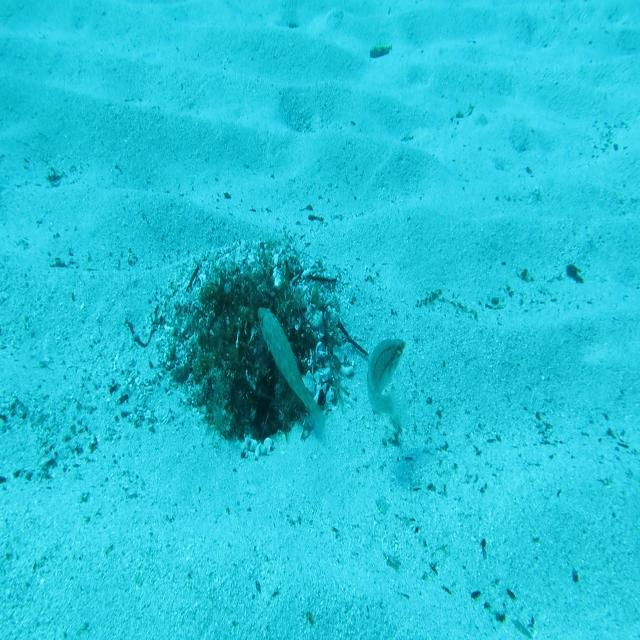BN: (254, 304, 328, 442)
core_nest: (225, 291, 283, 324)
female: (362, 336, 414, 437)
nest: (141, 221, 355, 465)
vegetation: (368, 40, 394, 61)
